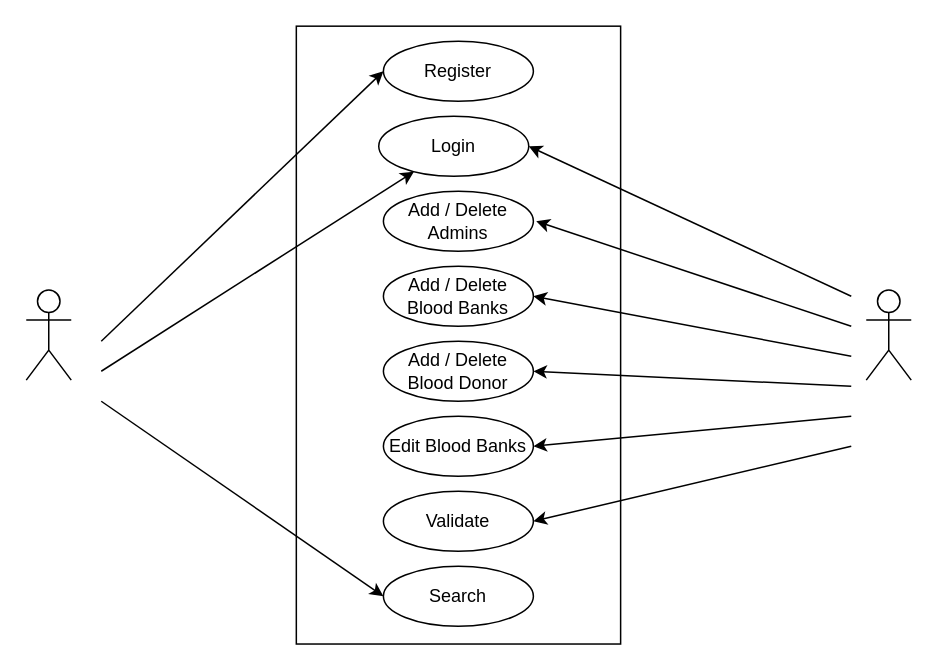
This 941x671 diagram has some shape labels left out. The shapes that lost their labels are listed below. From the top down, each one's box as (x1, y1, x2, y2) in pixels, then its label:
(25, 289, 71, 380): User
(865, 289, 911, 380): Admin
